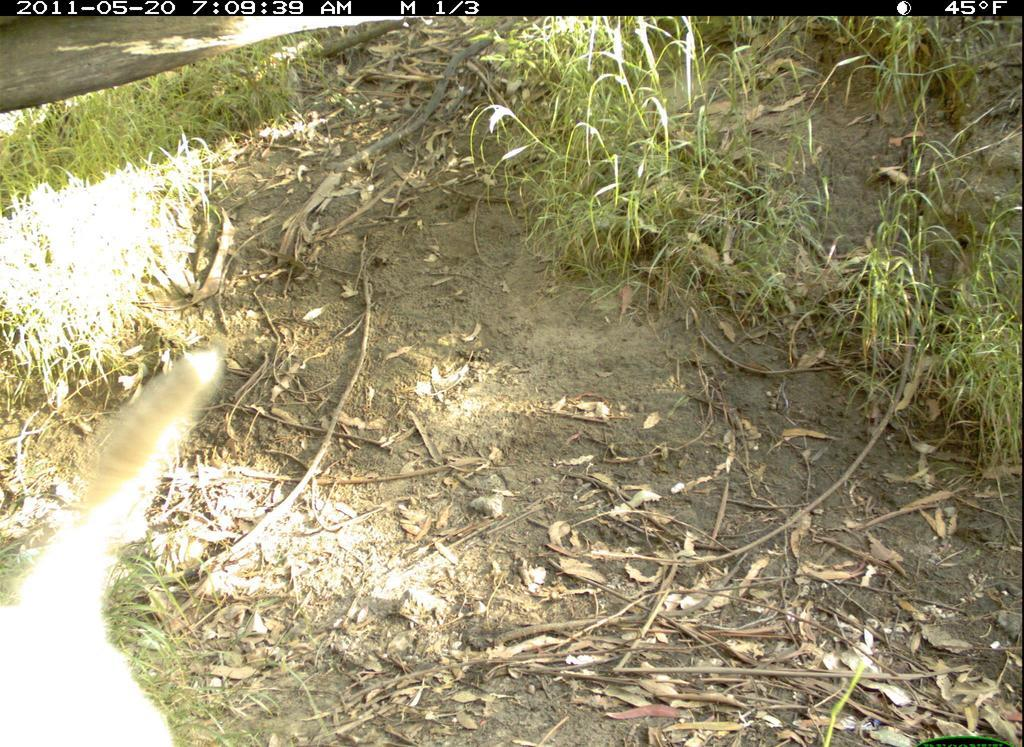dog: (7, 336, 244, 742)
